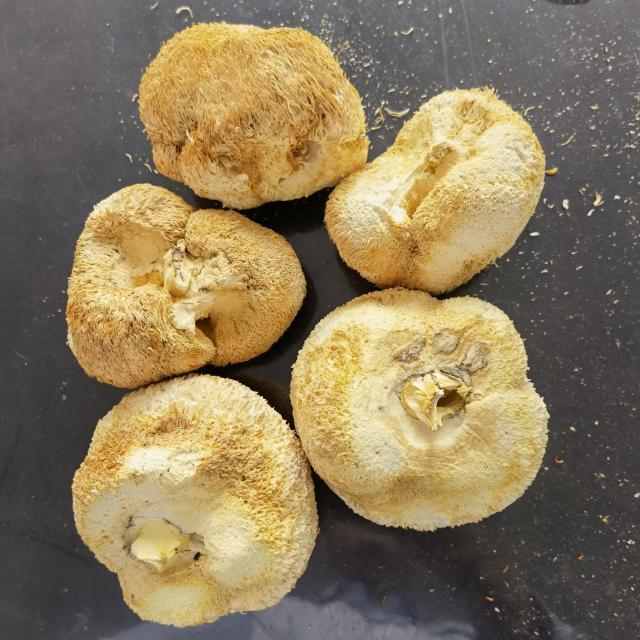Hericium erinaceus: (292, 288, 547, 531), (74, 380, 319, 626), (72, 186, 304, 386), (332, 83, 553, 288), (145, 23, 371, 208)
